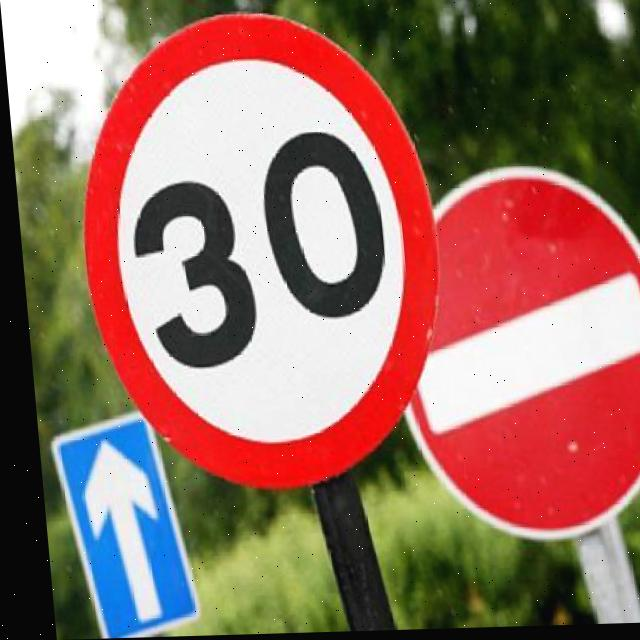Speed limit 30: (59, 7, 453, 498)
